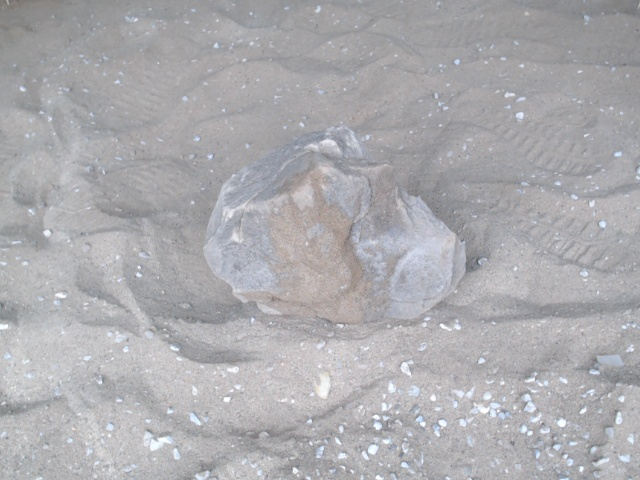rock: (191, 117, 476, 334)
